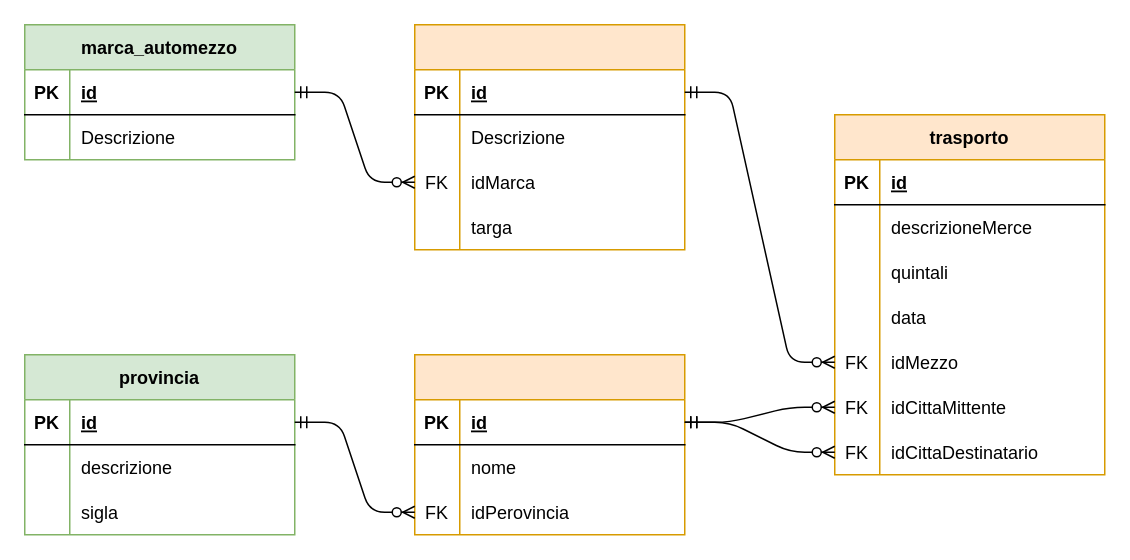
The diagram is 1130 pixels wide and 560 high, and some of its shapes have lost their labels. Each missing label, with the box of its shape:
citta: (413, 353, 685, 535)
mezzo: (413, 23, 685, 250)
